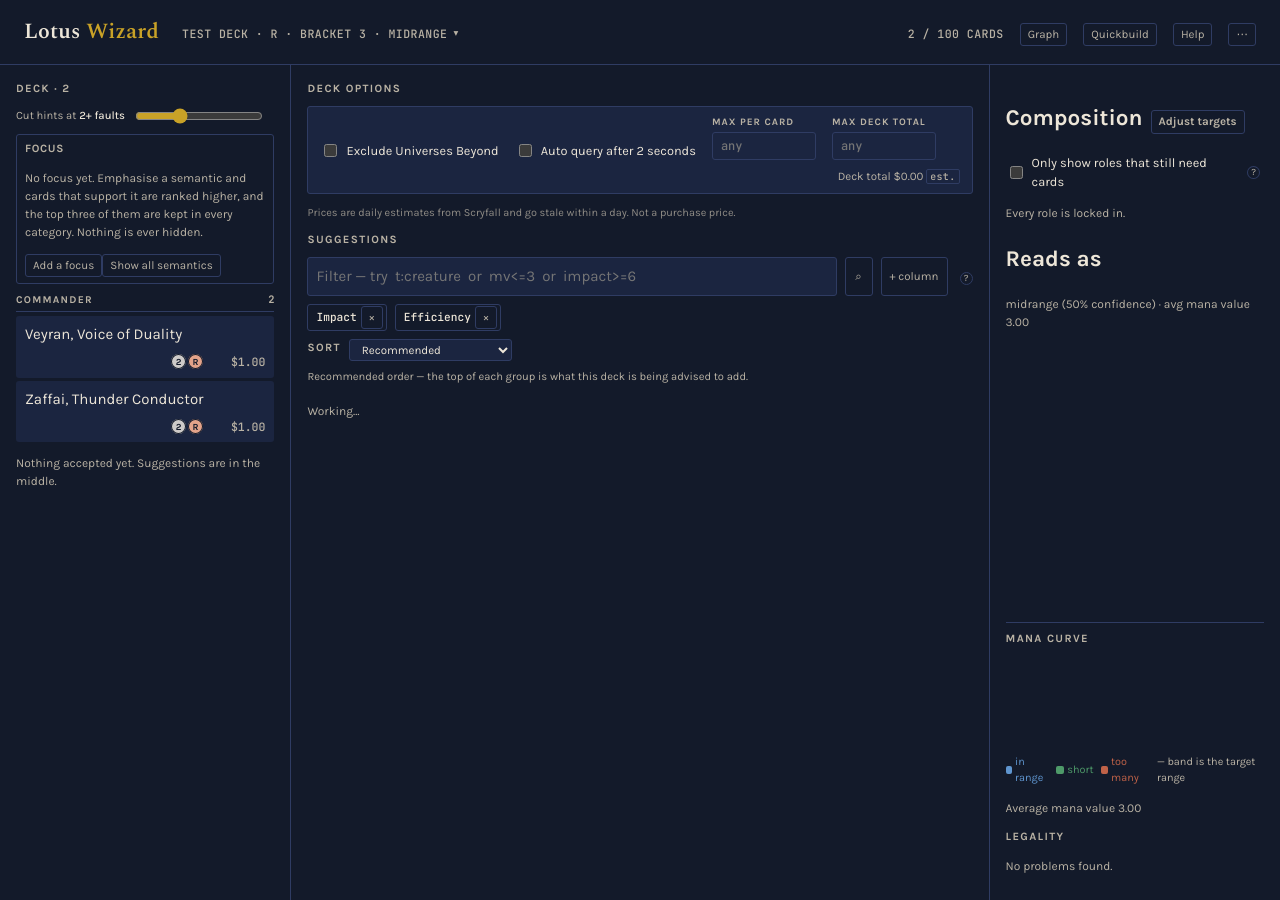
Test: partners have to agree before a restriction is printed › drops it when the two commanders want the tag on different terms
Expected: the button "Veyran, Voice of Duality" is shown, 25,323 -> 266,345
What coordinates should you click on to do the following:
click the button "Add a focus"
I would click on:
 (64, 266)
Its box is 25,254 -> 102,277.
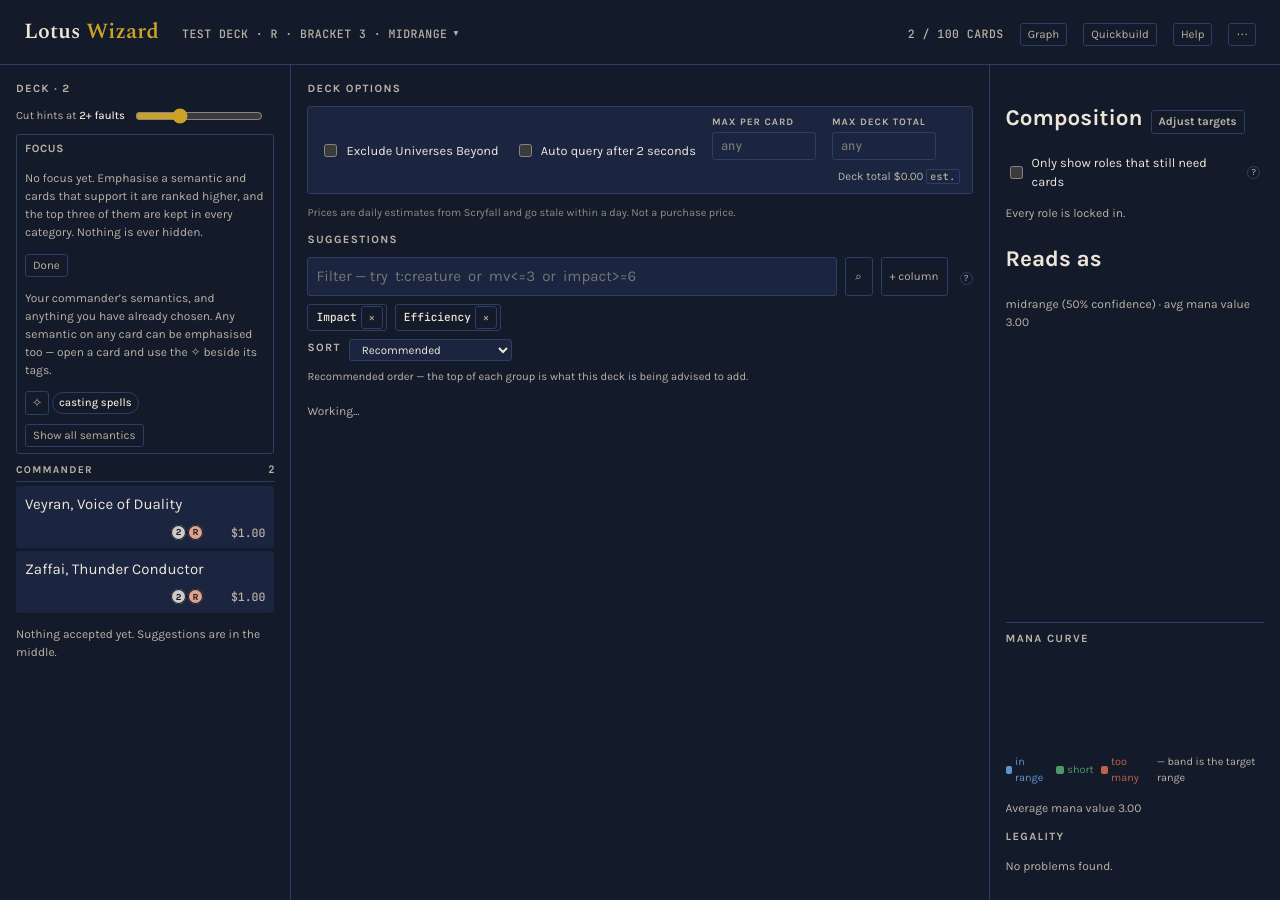
Now the text "casting spells" is shown, box 52,392 -> 139,414
